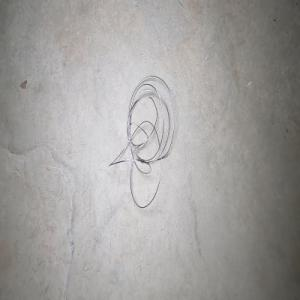Wire: (108, 74, 174, 208)
